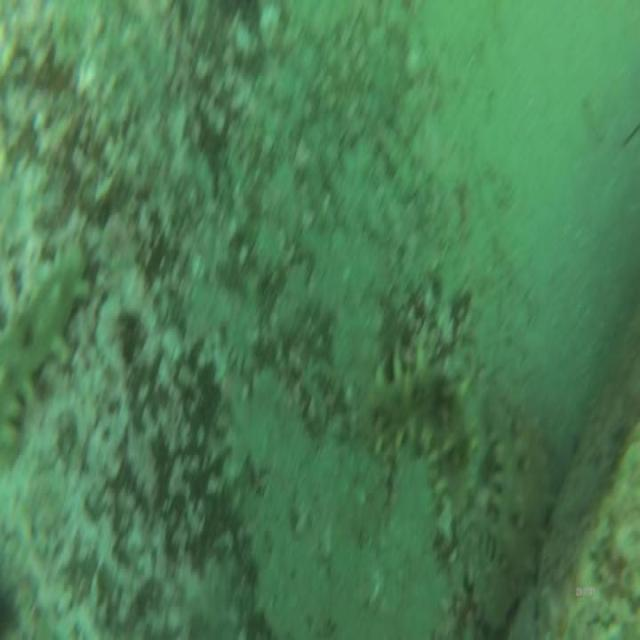holothurian: (0, 245, 92, 444), (374, 346, 476, 518), (493, 408, 558, 578)
